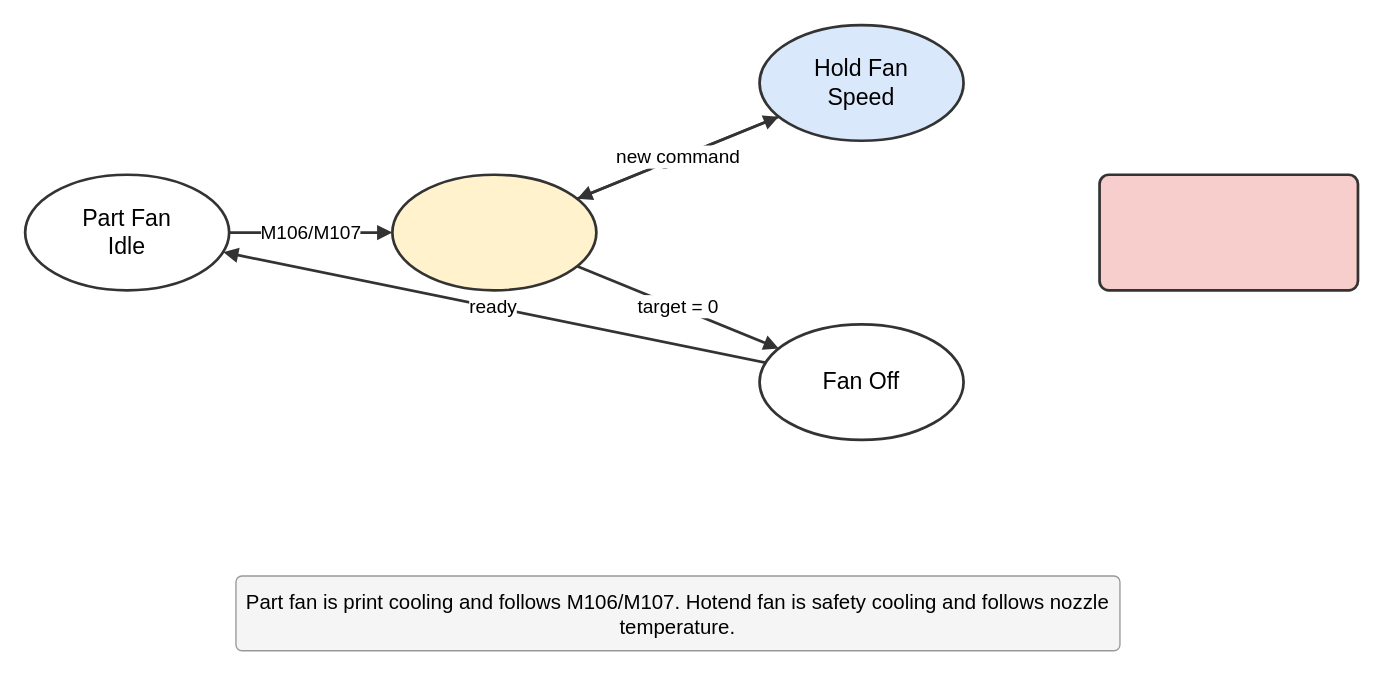
The diagram is 1382 pixels wide and 675 high, and some of its shapes have lost their labels. Each missing label, with the box of its shape:
Hotend Fan Auto ON/OFF: (1098, 173, 1359, 291)
Set Fan Speed: (390, 173, 597, 291)
